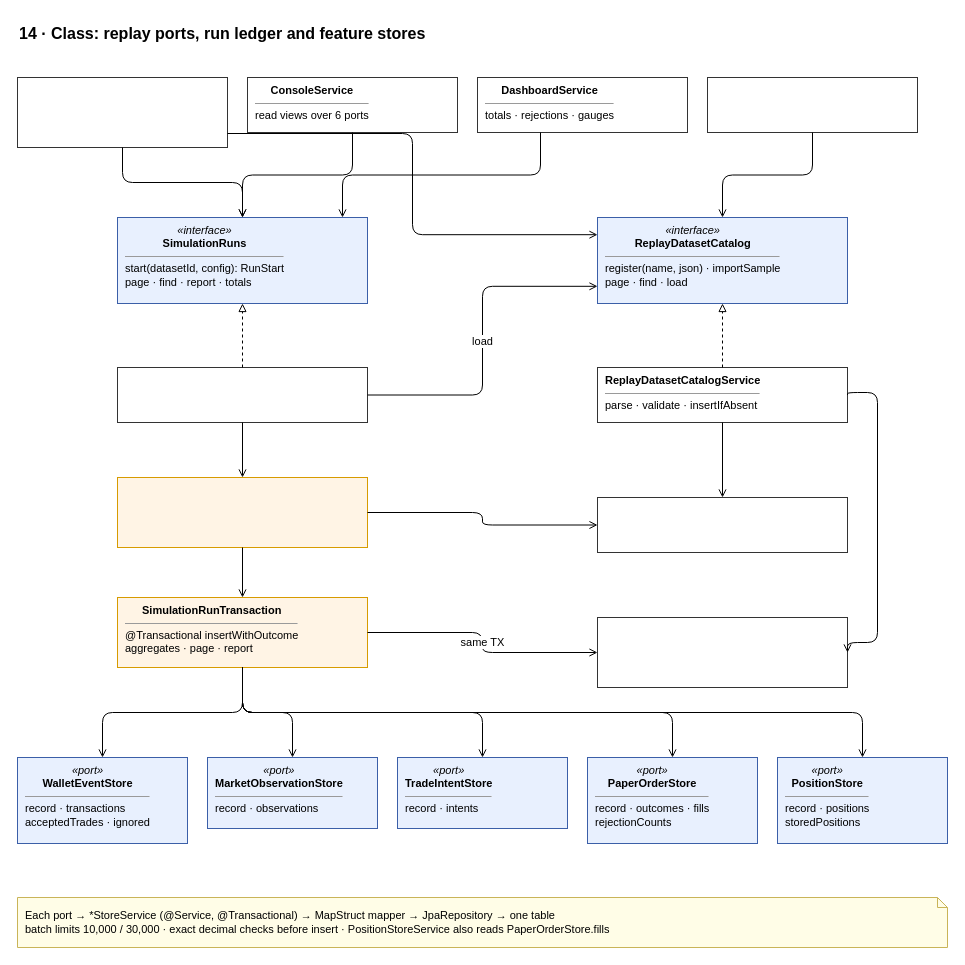
Image size: 965x965. Some labels were removed from this diagram. Each missing label, with the centre of its shape:
"DatasetConsoleService upload · sample · observations" goes at (812,104).
"DatasetEntryFactory checksum id + canonical snapshot" goes at (722,524).
"ReplayDatasetTransaction insertIfAbsent (ON CONFLICT) find · page · snapshot" goes at (722,652).
"RunLaunchService validate config · metrics start(request)" goes at (122,112).
"SimulationRunLedger persistWithOutcome · race recovery checksum conflict → 409" goes at (242,512).
"SimulationRunsService load → ReplayRunner → ledger" goes at (242,394).
